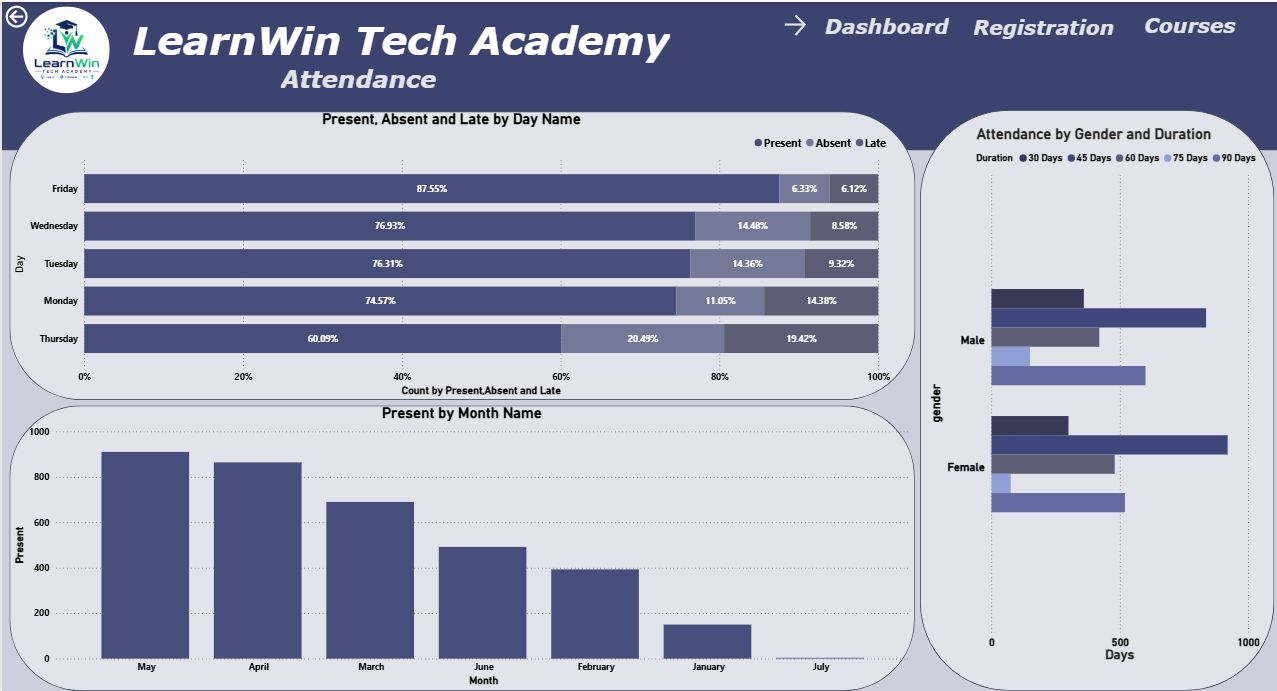

What the dashboard file says about the page in this screenshot:
{"tool":"powerbi","page":{"name":"Attendance","canvas":[1280,720],"ordinal":3},"visuals":[{"type":"shape","box":[0,0,313.3,900],"z":0},{"type":"shape","box":[313.1,0,966.6,720.5],"z":1000},{"type":"cardVisual","fields":{"Data":["learnwin_tech attendance.Total_attendance"]},"box":[22.4,52.7,268.4,163],"z":2000},{"type":"cardVisual","fields":{"Data":["learnwin_tech attendance.Present"]},"box":[22.4,196.5,268.4,163],"z":3000},{"type":"cardVisual","fields":{"Data":["learnwin_tech attendance.Absent"]},"box":[22.4,346.7,268.4,163],"z":4000},{"type":"cardVisual","fields":{"Data":["learnwin_tech attendance.Late"]},"box":[22.4,498.5,268.4,163],"z":5000},{"type":"actionButton","box":[62.3,0,222.1,76.7],"z":6000},{"type":"image","box":[22.4,0,65.5,65.5],"z":7000},{"type":"columnChart","title":"Present by Month name","fields":{"Category":["learnwin_tech dim_date.month_name"],"Y":["learnwin_tech attendance.Present"]},"box":[324.3,10,942.9,327.1],"z":8000},{"type":"hundredPercentStackedBarChart","title":"Present, Absent and Late by day name","fields":{"Category":["learnwin_tech dim_date.day_name"],"Y":["learnwin_tech attendance.Present","learnwin_tech attendance.Absent","learnwin_tech attendance.Late"]},"box":[323.8,347.5,943.8,358.8],"z":9000},{"type":"actionButton","box":[135,663.3,178.3,56.7],"z":10000},{"type":"image","box":[96.7,668.3,66.7,48.3],"z":11000},{"type":"image","box":[54.4,670,42.2,46.7],"z":12000},{"type":"image","box":[0,660,56.7,60],"z":13000}]}

Visuals, with their boxes on the page's 1280x720 design canvas (x1, y1, x2, y2). These are canvas units, not pixel positions in the 1277x691 screenshot, which may show the page scaled, cropped or inside an application window:
shape: [x1=0, y1=0, x2=313, y2=900]
shape: [x1=313, y1=0, x2=1280, y2=720]
cardVisual - learnwin_tech attendance.Total_attendance: [x1=22, y1=53, x2=291, y2=216]
cardVisual - learnwin_tech attendance.Present: [x1=22, y1=196, x2=291, y2=360]
cardVisual - learnwin_tech attendance.Absent: [x1=22, y1=347, x2=291, y2=510]
cardVisual - learnwin_tech attendance.Late: [x1=22, y1=498, x2=291, y2=662]
actionButton: [x1=62, y1=0, x2=284, y2=77]
image: [x1=22, y1=0, x2=88, y2=66]
"Present by Month name" columnChart: [x1=324, y1=10, x2=1267, y2=337]
"Present, Absent and Late by day name" hundredPercentStackedBarChart: [x1=324, y1=348, x2=1268, y2=706]
actionButton: [x1=135, y1=663, x2=313, y2=720]
image: [x1=97, y1=668, x2=163, y2=717]
image: [x1=54, y1=670, x2=97, y2=717]
image: [x1=0, y1=660, x2=57, y2=720]
